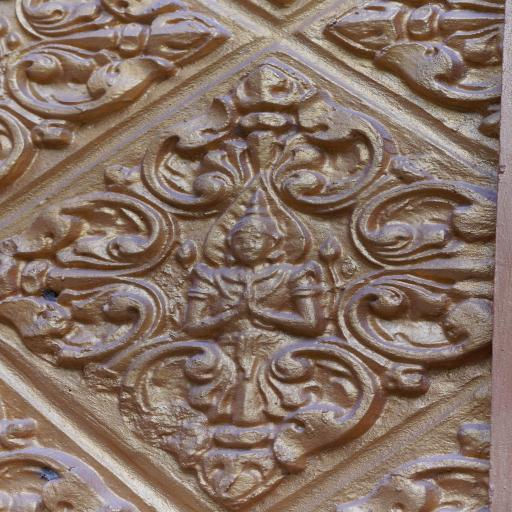la: (114, 329, 402, 499), (134, 62, 404, 216), (0, 190, 172, 366), (343, 176, 495, 374), (0, 1, 231, 117), (319, 385, 512, 512), (312, 0, 512, 115), (0, 396, 142, 511), (0, 107, 37, 198)
than: (164, 173, 350, 355)
